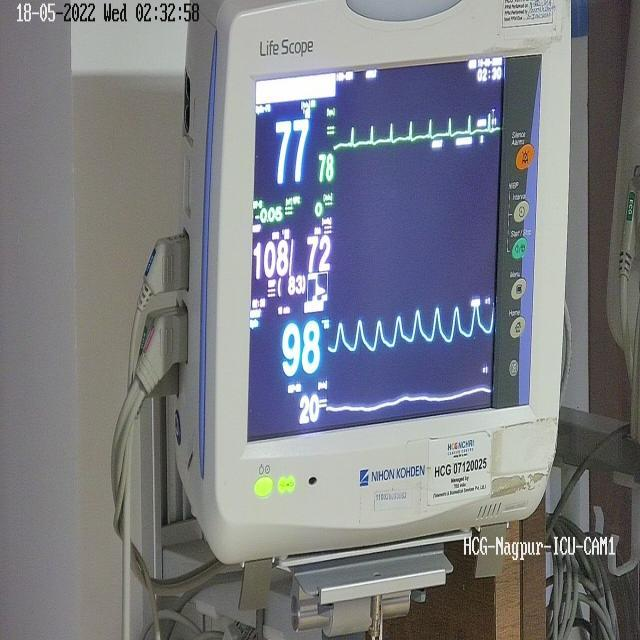Monitor: (120, 4, 574, 640)
